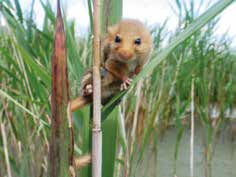texte: (119, 77, 158, 145), (0, 8, 35, 35), (81, 73, 149, 84), (19, 46, 41, 76), (18, 142, 47, 164), (124, 83, 172, 94), (108, 24, 136, 35), (74, 145, 90, 163), (212, 109, 236, 118), (178, 48, 191, 63), (13, 35, 27, 42), (139, 43, 148, 52), (24, 71, 28, 83), (118, 147, 122, 158), (87, 85, 92, 92), (90, 35, 94, 43), (192, 85, 193, 98), (225, 161, 228, 163), (0, 113, 1, 116)
